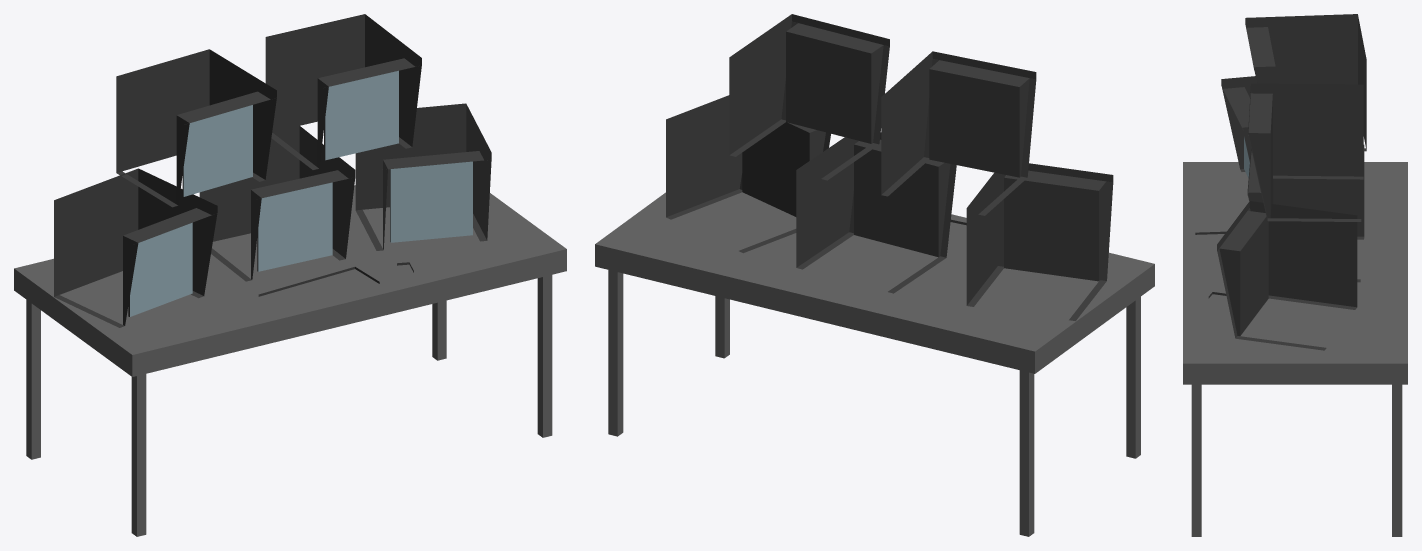
The model's file is SecuritySystem.fbx.
3 views of the same model, side by side, from view 1: azimuth 30°, elevation 25°; view 2: azimuth 150°, elevation 25°; view 3: azimuth 270°, elevation 25° (orthographic). The views are drawn at different scales.
Parts seen in each view (by area): view 1: Cube.014; view 2: Cube.014; view 3: Cube.014.
Part boxes in pixels (x1=…): Cube.014: x1=14, y1=14, x2=566, y2=536; Cube.014: x1=595, y1=14, x2=1154, y2=536; Cube.014: x1=1183, y1=14, x2=1407, y2=536.
Bounding box in the file's own units: 245 × 205 × 116.
Materials: 1 (1 with a texture image).
